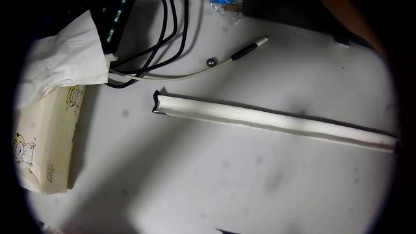gangzhu: (205, 56, 217, 67)
